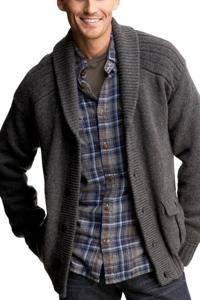S_cardigan sweater: (1, 19, 200, 288)
